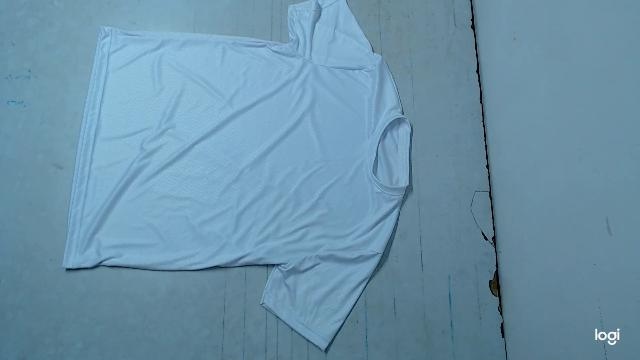new-garment: (63, 0, 411, 350)
